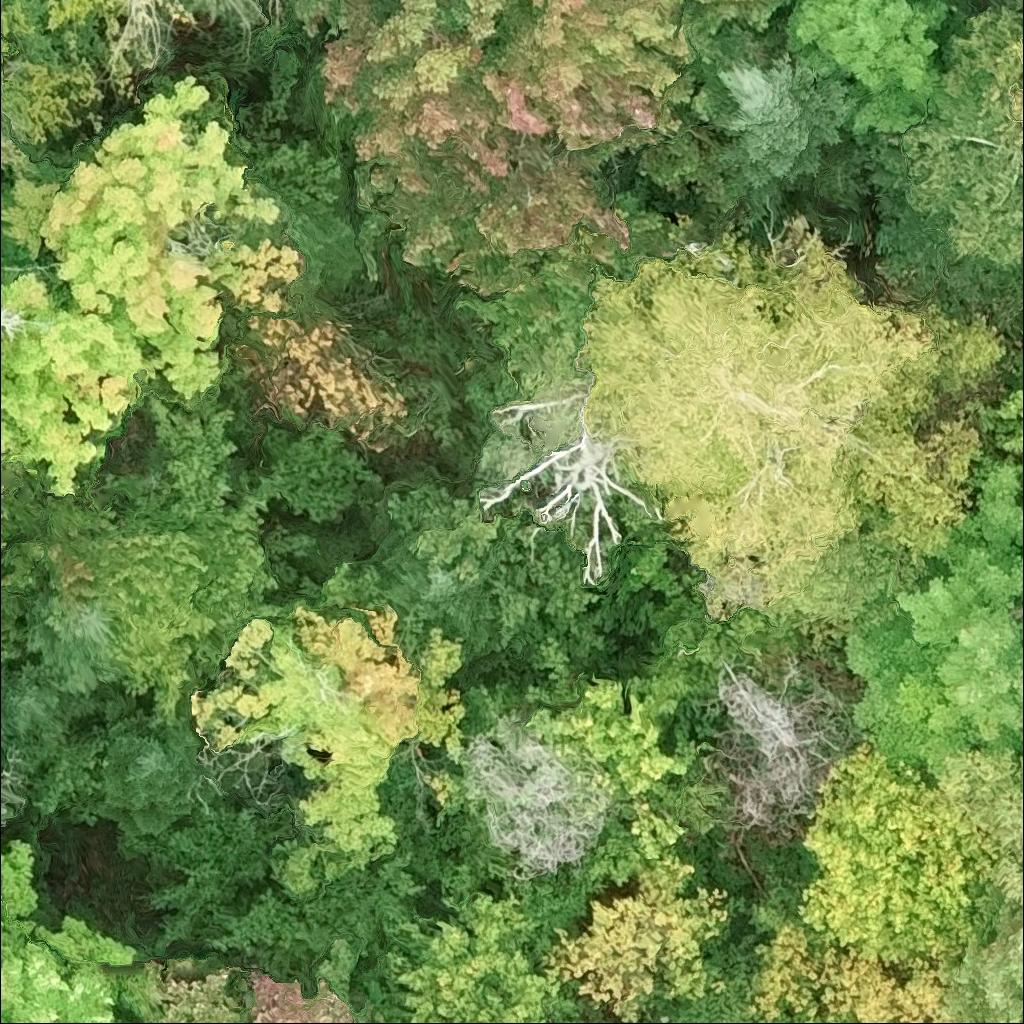crown: (579, 234, 1008, 623), (305, 0, 788, 296), (0, 75, 302, 401), (190, 602, 471, 895), (842, 459, 1023, 790), (862, 0, 1023, 319), (792, 739, 994, 968), (360, 473, 607, 658), (0, 231, 159, 495), (527, 676, 689, 894), (533, 852, 736, 1023), (690, 27, 860, 222), (474, 419, 658, 589), (381, 887, 584, 1023), (706, 661, 851, 849), (783, 0, 973, 139), (104, 936, 407, 1023), (0, 838, 135, 1023), (749, 911, 962, 1023), (92, 712, 213, 837), (0, 493, 118, 617), (88, 532, 210, 644), (374, 548, 498, 658), (938, 752, 1023, 905), (17, 593, 127, 698), (0, 655, 98, 772), (941, 893, 1023, 1023), (967, 344, 1023, 486), (0, 108, 38, 205), (0, 0, 39, 59), (0, 492, 8, 557), (564, 1019, 573, 1023), (1022, 721, 1023, 726)
